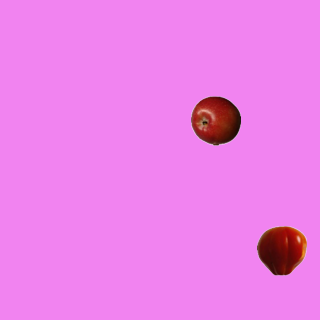Apple Braeburn: (190, 95, 240, 145)
Tomato 1: (256, 225, 306, 275)
